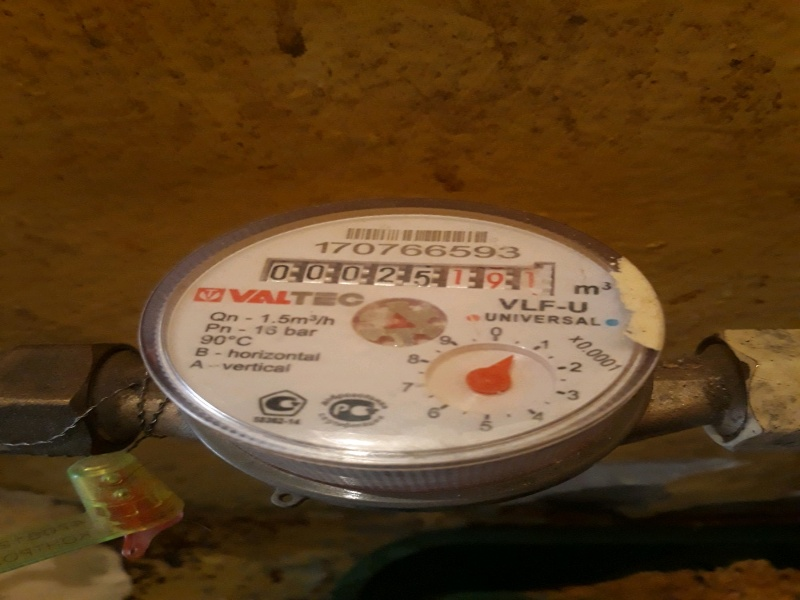dial: (268, 254, 548, 293)
